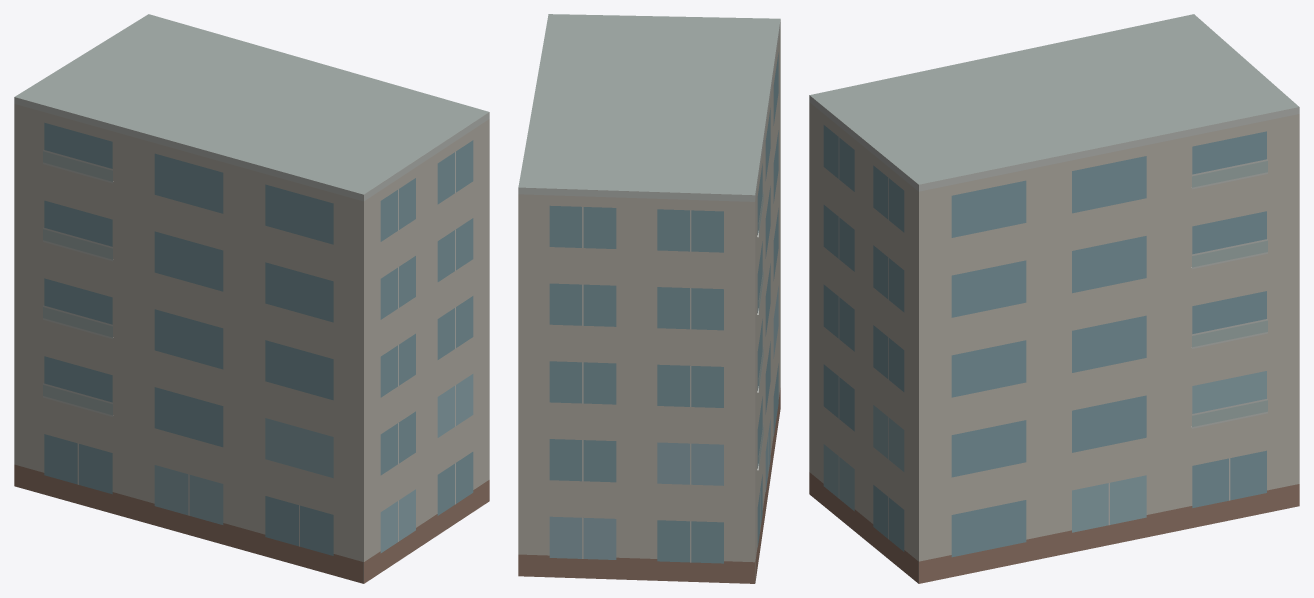
Rendered from survey-upis-32864271.glb.
3 renders of one model, left to right at view 1: azimuth 30°, elevation 25°; view 2: azimuth 150°, elevation 25°; view 3: azimuth 270°, elevation 25°, orthographic. The views are drawn at different scales.
Parts seen in each view (by area): view 1: survey-upis-32864271.tmp; view 2: survey-upis-32864271.tmp; view 3: survey-upis-32864271.tmp.
Part boxes in pixels (<box>): survey-upis-32864271.tmp: <box>14,14,489,583</box>; survey-upis-32864271.tmp: <box>518,14,780,583</box>; survey-upis-32864271.tmp: <box>809,14,1299,583</box>.
Bounding box in the file's own units: 12.85 × 14 × 15.59.
